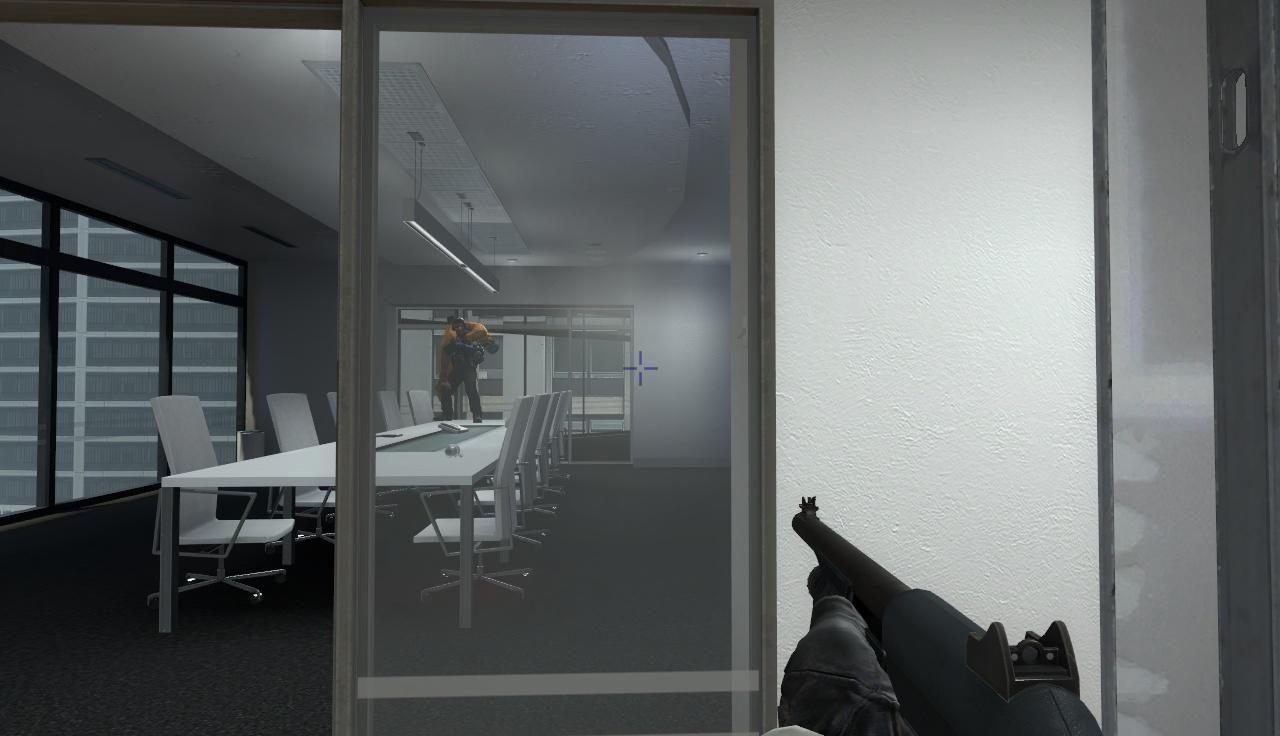ct: (445, 317, 480, 422)
cthead: (452, 317, 466, 335)
shotgun: (785, 494, 1109, 736)
